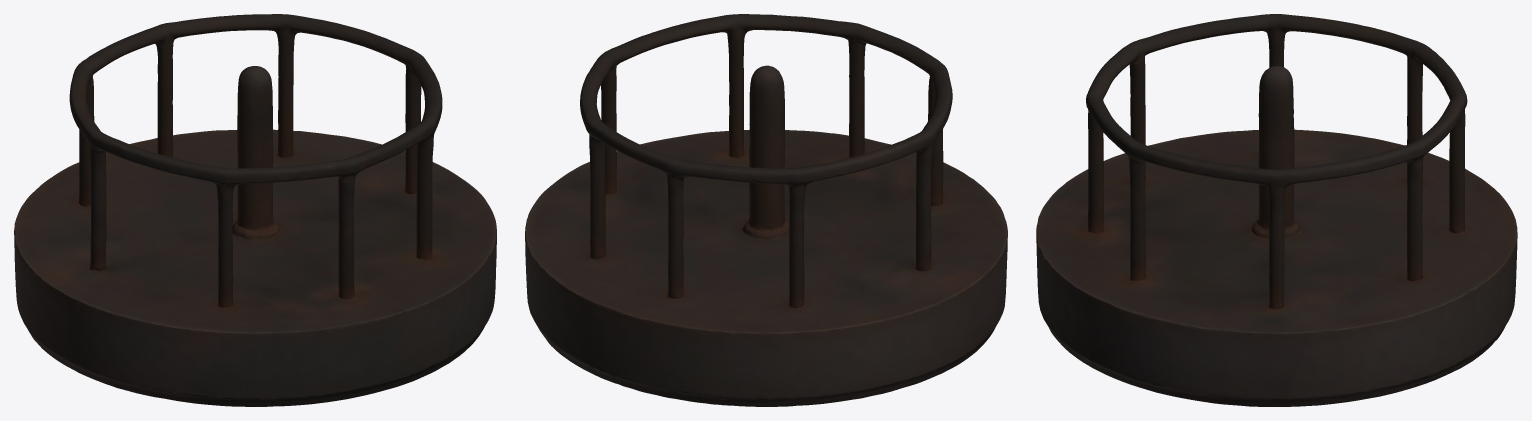
File: roundabout.glb
3 views of the same model, side by side, from view 1: azimuth 30°, elevation 25°; view 2: azimuth 150°, elevation 25°; view 3: azimuth 270°, elevation 25° (orthographic).
Parts seen in each view (by area): view 1: Mesh; view 2: Mesh; view 3: Mesh.
Part boxes in pixels (x1,y1,x2,y2): Mesh: (14, 14, 496, 406); Mesh: (525, 14, 1007, 406); Mesh: (1036, 14, 1517, 406).
Size of the model in its own units: 1.9 by 1.05 by 1.89.
Materials: 1 (1 with a texture image).
